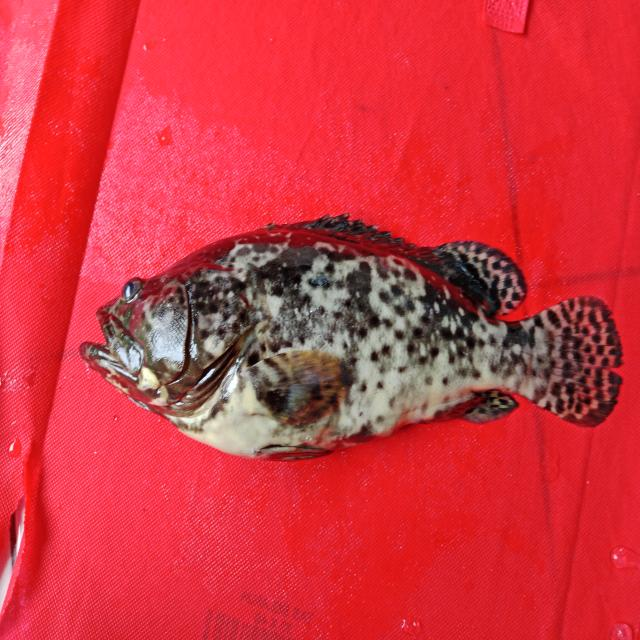ikan: (70, 189, 627, 471)
